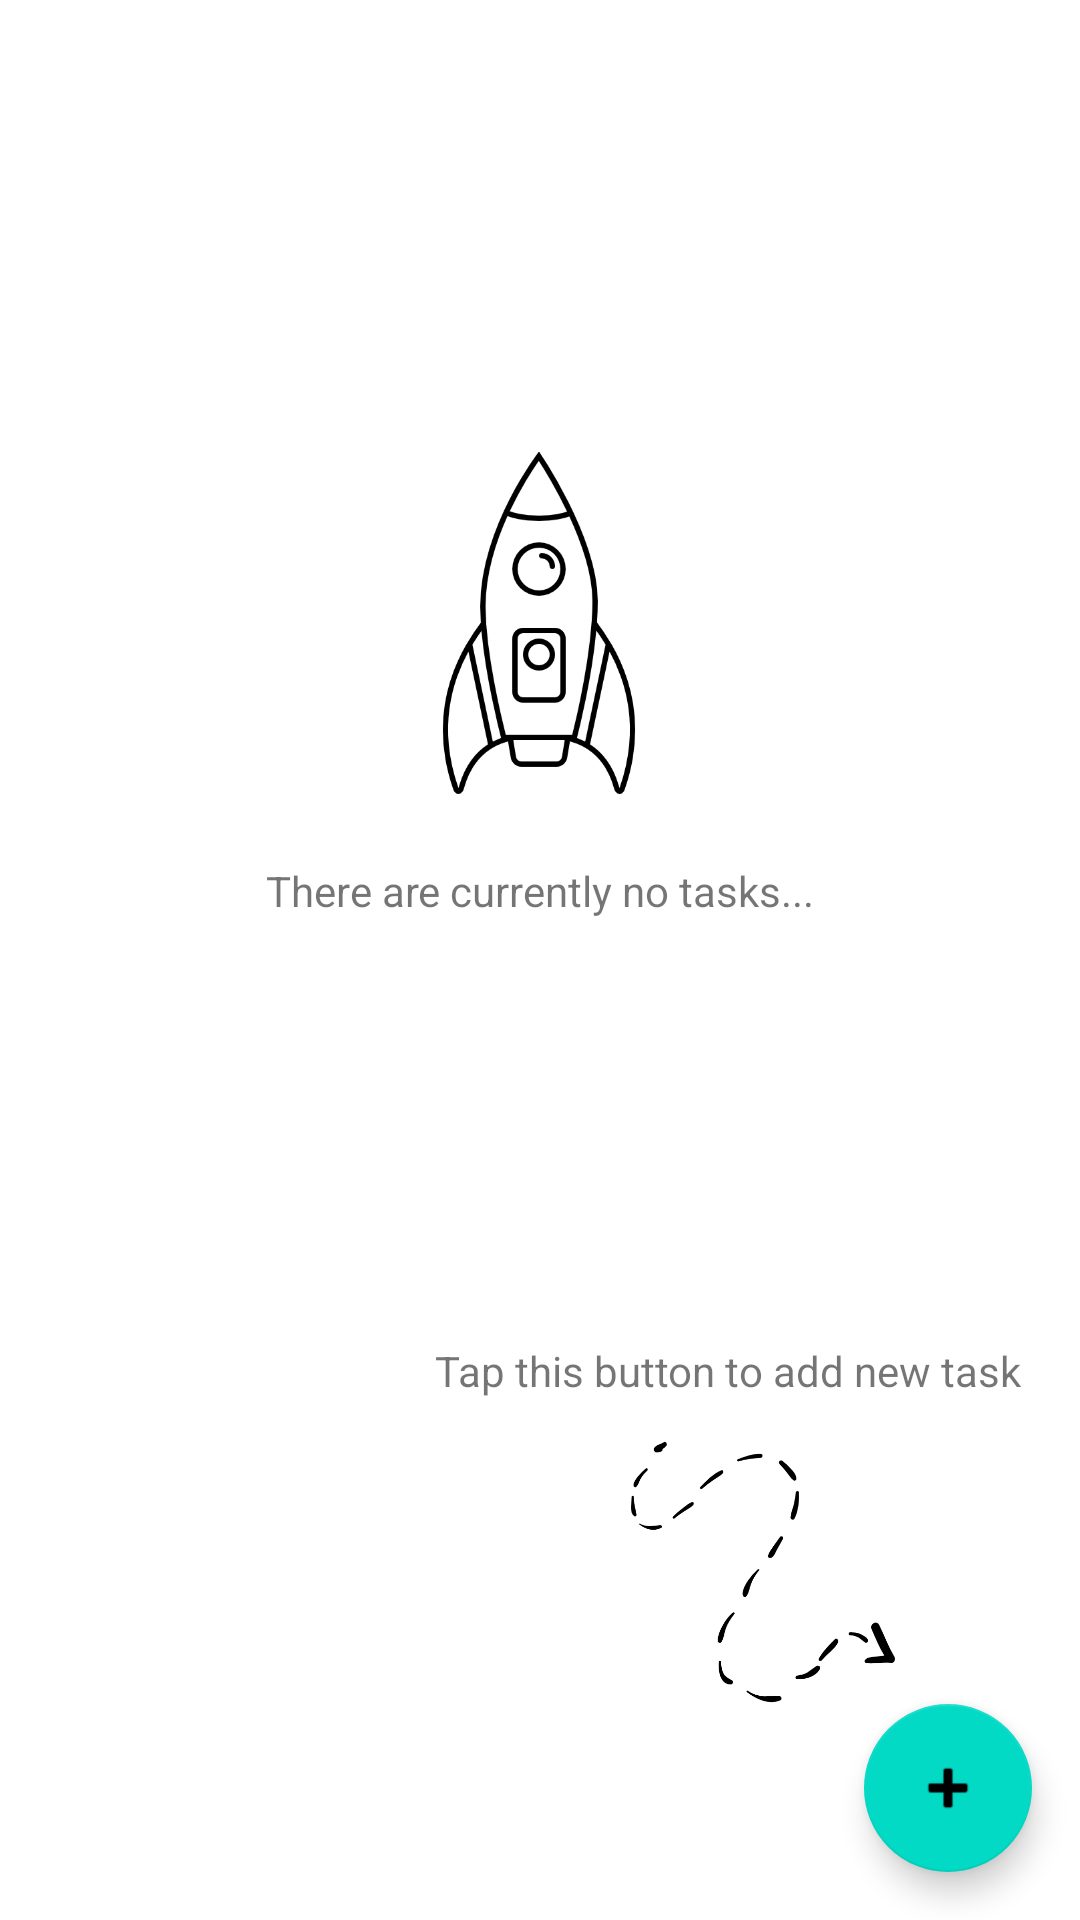

Named icons in this screenshot (1080×1920) and their centers, point (x, y):
add: point (948, 1788)
arrow: point (763, 1572)
rocket: point (539, 623)
